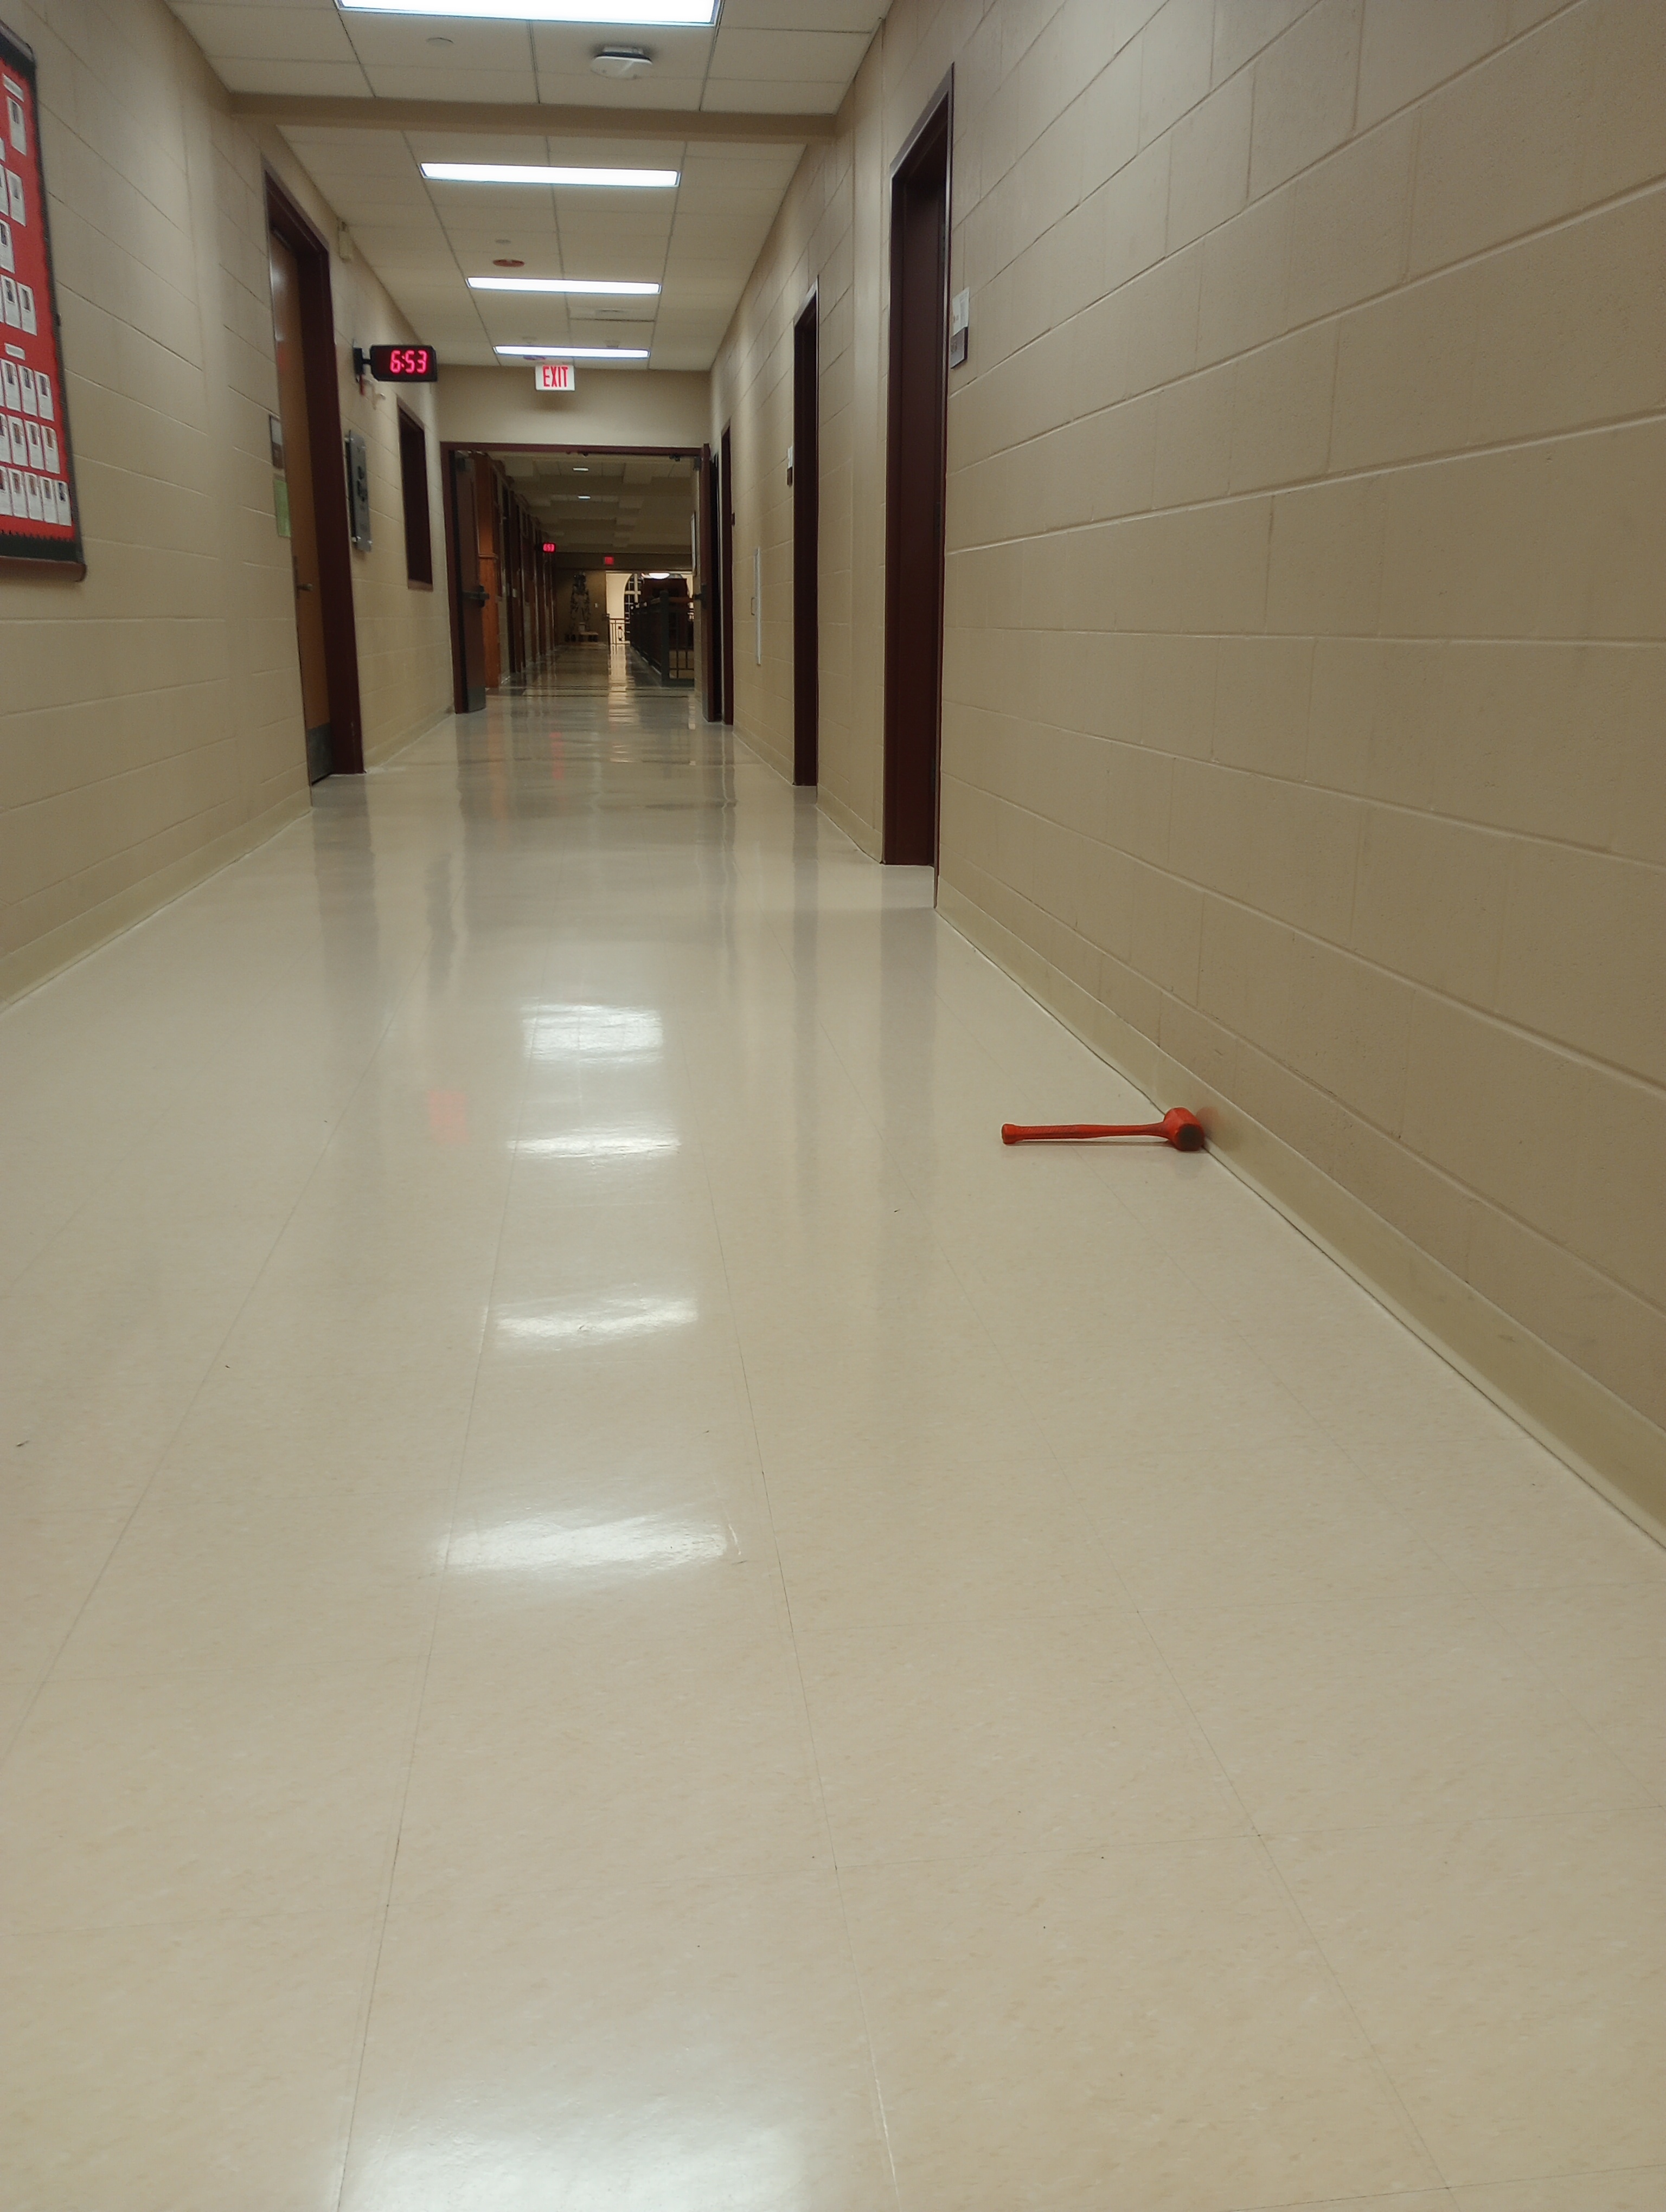hammer: (998, 1089, 1209, 1168)
